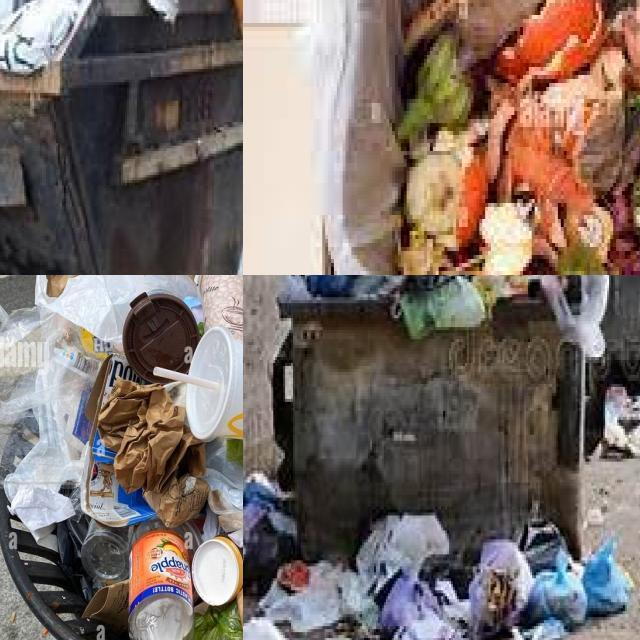Disposable: (123, 292, 200, 381), (186, 327, 243, 440), (191, 535, 243, 606), (81, 519, 130, 582), (200, 275, 243, 343)
Garbage: (0, 275, 243, 640), (400, 0, 640, 275), (309, 275, 610, 356)
Glass_bottle: (129, 521, 194, 640)
Plastic_Bag: (0, 307, 100, 537), (35, 275, 198, 347), (529, 275, 610, 358), (401, 276, 486, 340), (203, 438, 243, 549), (56, 508, 93, 601), (428, 276, 486, 331), (194, 601, 243, 640), (309, 275, 352, 297)
Plastic_Straw: (152, 367, 221, 390)
Plastic_wraper: (81, 428, 155, 525)
